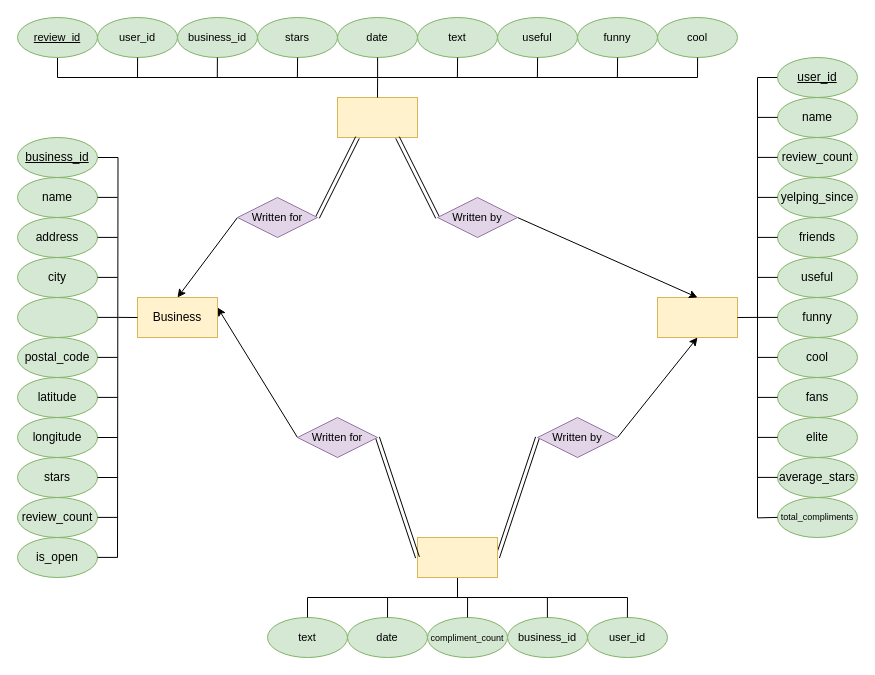
This 875x675 diagram has some shape labels left out. The centre of each missing label's shape, as x and y in pixels:
Review: the point at 377,117
state: the point at 57,317
Tip: the point at 457,557
User: the point at 697,317
